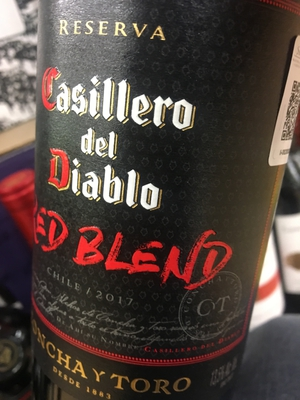casillero del diablo red blend: (32, 1, 300, 396)
